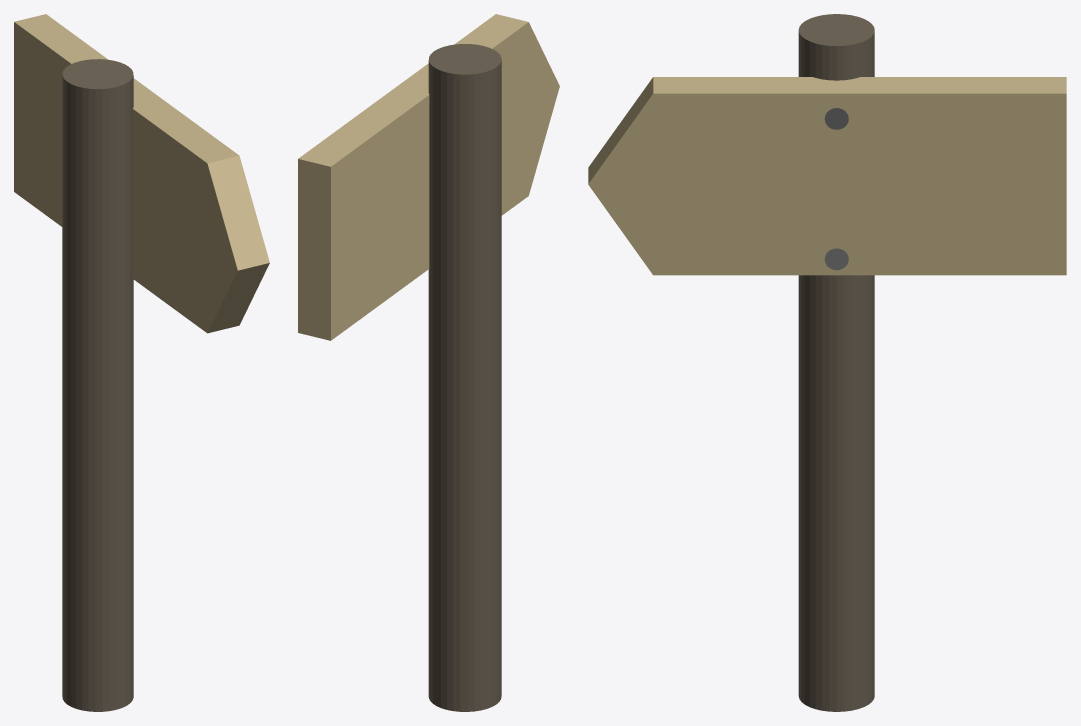
The model's file is signpost.fbx.
3 renders of one model, left to right at view 1: azimuth 30°, elevation 25°; view 2: azimuth 150°, elevation 25°; view 3: azimuth 270°, elevation 25°, orthographic. The views are drawn at different scales.
Visible parts, largest first — view 1: Cylinder, Cube; view 2: Cylinder, Cube; view 3: Cube, Cylinder.
Boxes of the visible parts, x1,y1,x2,y2 form: Cylinder: (62, 59, 133, 711); Cube: (14, 14, 269, 333); Cylinder: (428, 44, 501, 711); Cube: (298, 14, 559, 340); Cube: (588, 77, 1066, 275); Cylinder: (798, 14, 874, 711).
Size of the model in its own units: 57.04 by 380 by 247.
